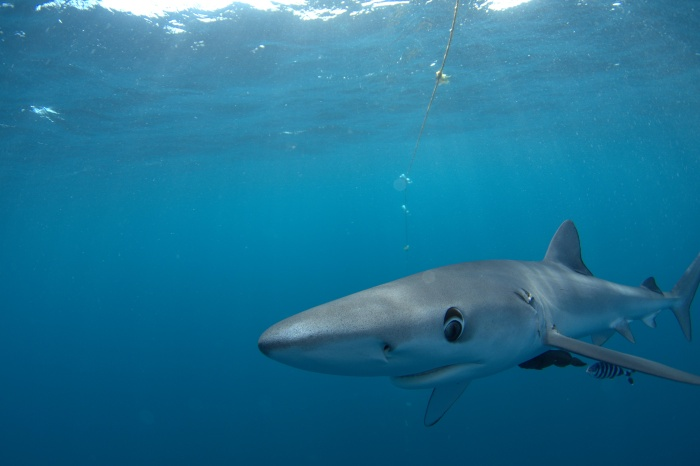Azul: (244, 197, 700, 438)
